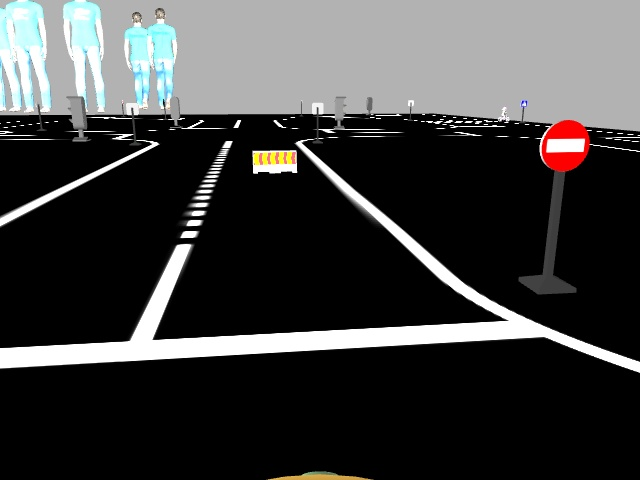ClosedRoadStand: (252, 150, 297, 172)
NoEntry: (541, 121, 591, 173)
